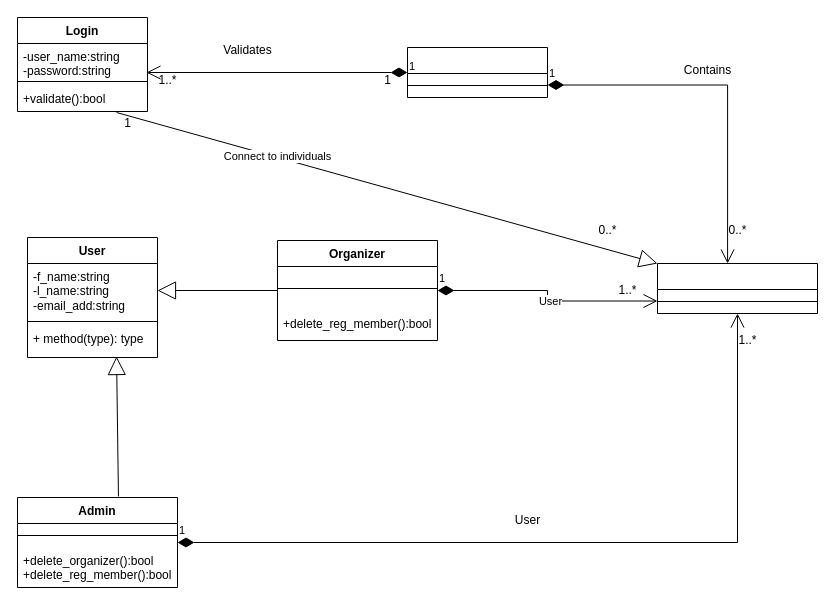
Image size: 835x608. Some labels were removed from this diagram. The centre of each missing label's shape, as x and y in pixels:
Database: the point at 477,72
User Account: the point at 737,288
